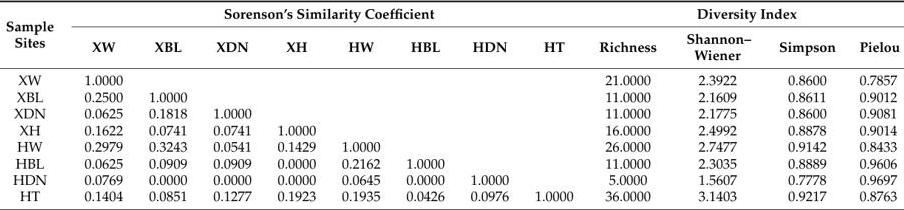table: (5, 4, 899, 204)
table column: (671, 4, 764, 204), (585, 4, 671, 204), (764, 4, 846, 204), (68, 4, 135, 204), (199, 4, 264, 204), (392, 4, 457, 204), (135, 4, 199, 204), (264, 4, 328, 204), (328, 4, 392, 204), (457, 4, 521, 204), (521, 4, 585, 204), (5, 4, 68, 204), (846, 4, 899, 204)
table column header: (5, 4, 899, 67)
table row: (5, 25, 899, 67), (5, 4, 899, 25), (5, 67, 899, 88), (5, 104, 899, 121), (5, 121, 899, 138), (5, 154, 899, 171), (5, 187, 899, 204), (5, 88, 899, 104), (5, 138, 899, 154), (5, 171, 899, 187)
table spanning cell: (68, 4, 585, 25), (585, 4, 899, 25), (5, 4, 68, 67)
